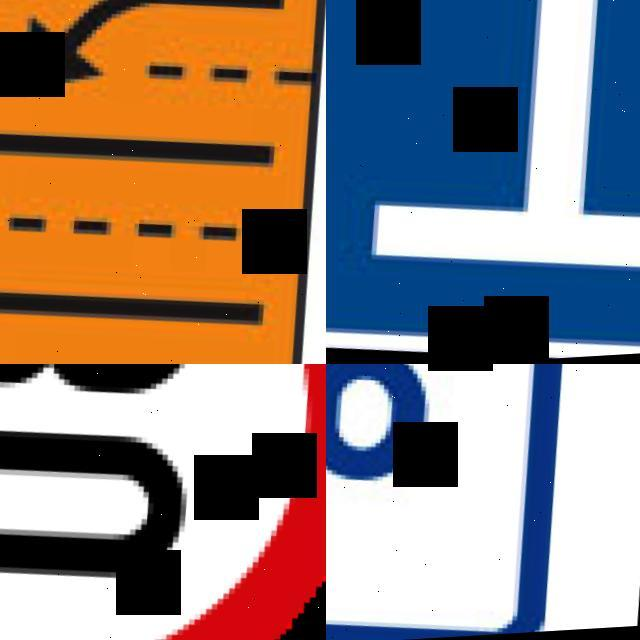178: (326, 0, 640, 364)
64: (0, 0, 326, 364)
81: (326, 364, 602, 640)
speed limit-80: (0, 364, 326, 640)
